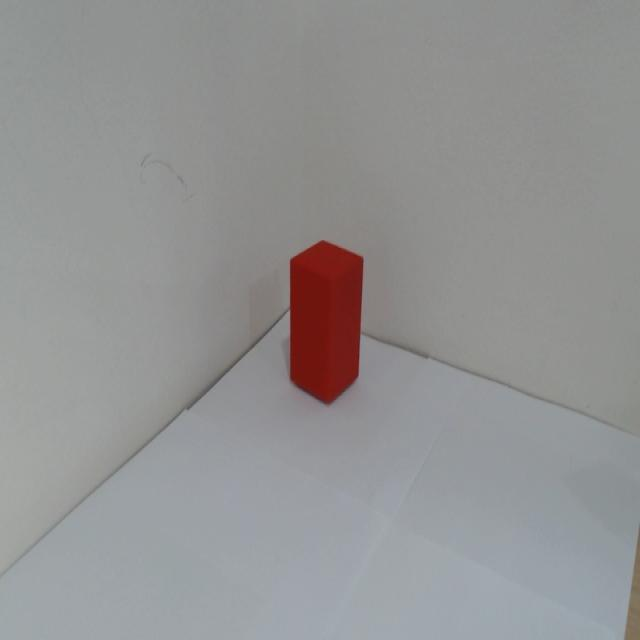cube: (284, 234, 366, 407)
